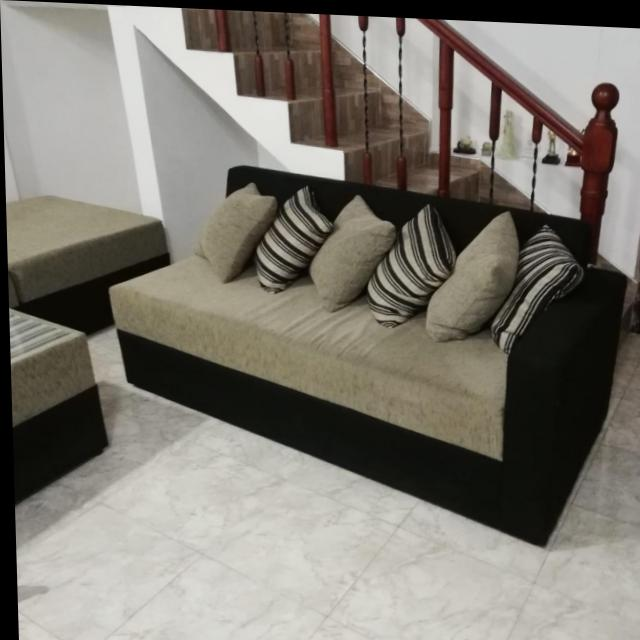Sofa: (108, 157, 632, 545)
